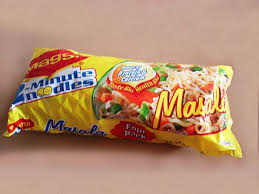maggi: (12, 60, 223, 133)
